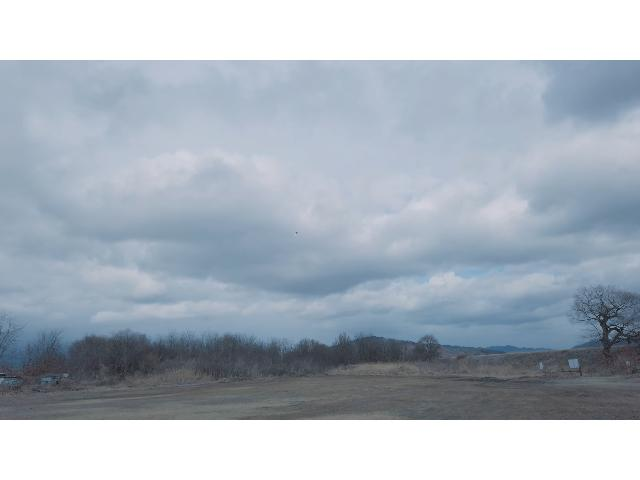Anti-Drone: (292, 227, 302, 239)
